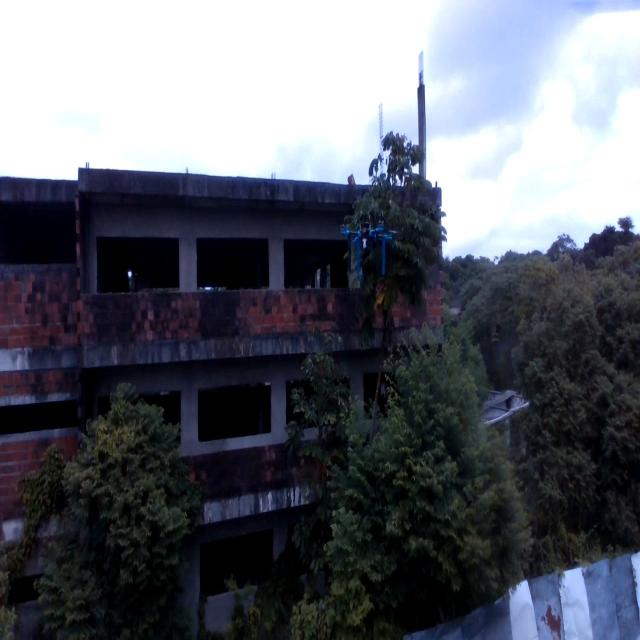-uav-: (335, 204, 403, 289)
